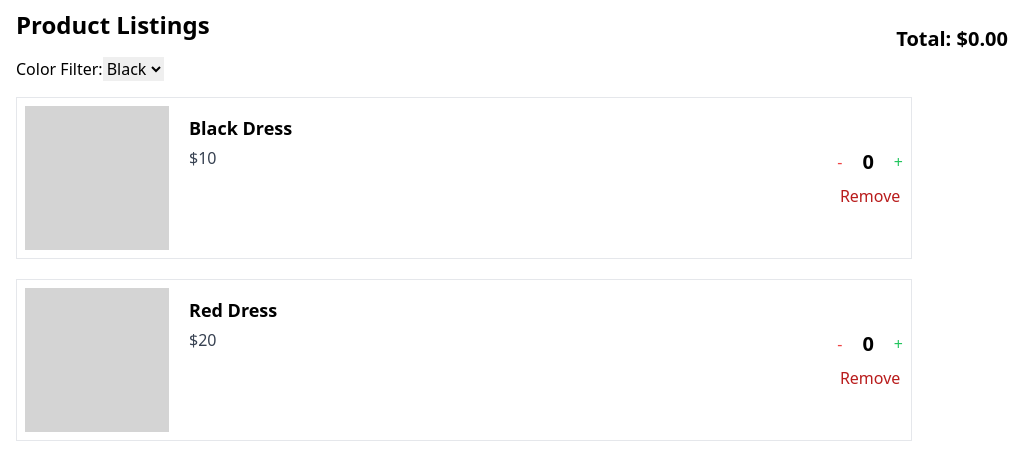
Scenario: App Component › renders product list and filters products
The image size is (1025, 458).
Expected: the heading "Black Dress" is shown, x1=189 y1=114 x2=292 y2=142
Expected: the heading "Red Dress" is shown, x1=189 y1=296 x2=277 y2=324
Select "Black" in the dropdown labelled "Color Filter:". click: (133, 69)
box: x1=103 y1=57 x2=164 y2=81
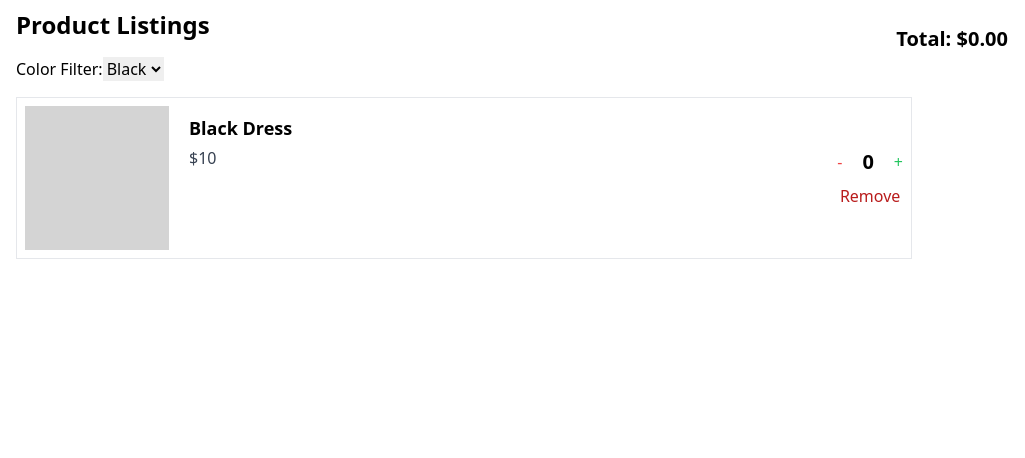
Expected: the heading "Black Dress" is shown, x1=189 y1=114 x2=292 y2=142
Now the heading "Red Dress" is gone
Select "Red" in the dropdown labelled "Color Filter:". click: (133, 69)
box: x1=103 y1=57 x2=164 y2=81
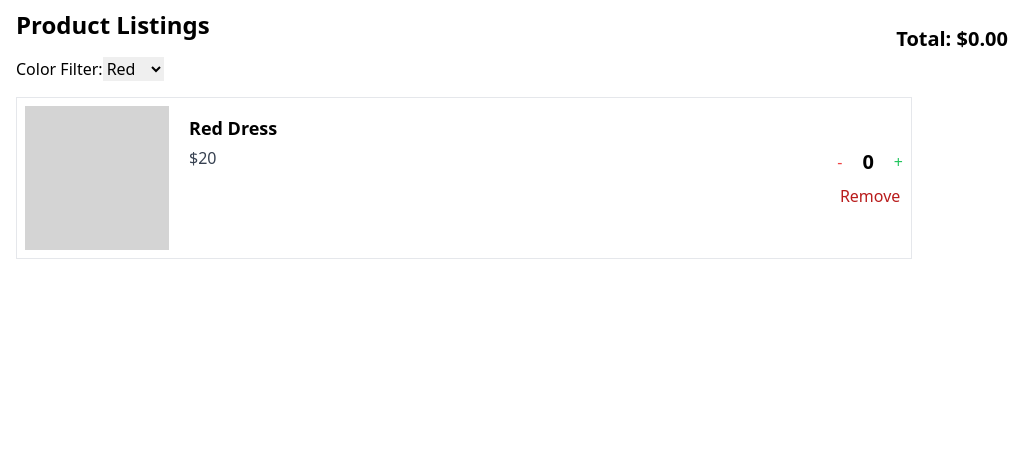
Now the heading "Red Dress" is shown, box x1=189 y1=114 x2=277 y2=142
Now the heading "Black Dress" is gone
Select "None" in the dropdown labelled "Color Filter:". click: (133, 69)
box: x1=103 y1=57 x2=164 y2=81
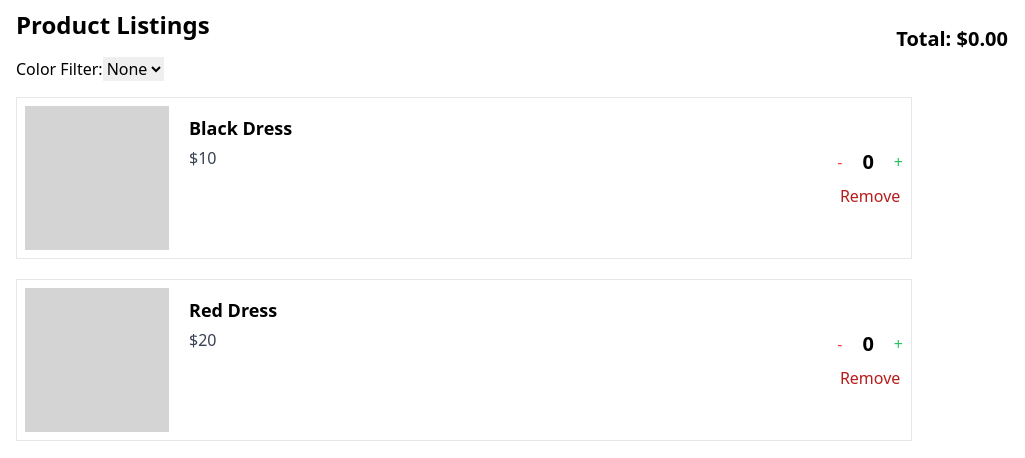
Now the heading "Red Dress" is shown, box x1=189 y1=296 x2=277 y2=324
Now the heading "Black Dress" is shown, box x1=189 y1=114 x2=292 y2=142
